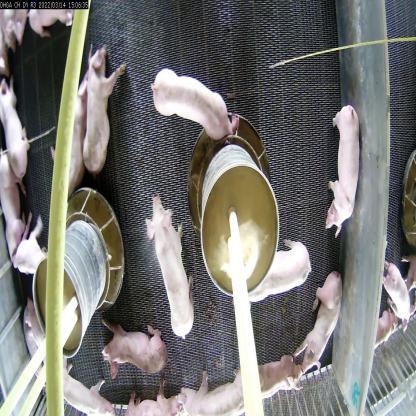Pig: (78, 41, 132, 172), (145, 194, 192, 340), (150, 70, 238, 141), (320, 95, 362, 241), (297, 272, 341, 392), (248, 237, 313, 300), (54, 83, 91, 192), (100, 325, 164, 380), (240, 353, 300, 407), (0, 79, 32, 177), (17, 307, 54, 388), (61, 362, 116, 415), (5, 219, 50, 281), (188, 370, 246, 415), (0, 150, 20, 255), (123, 391, 191, 415)
